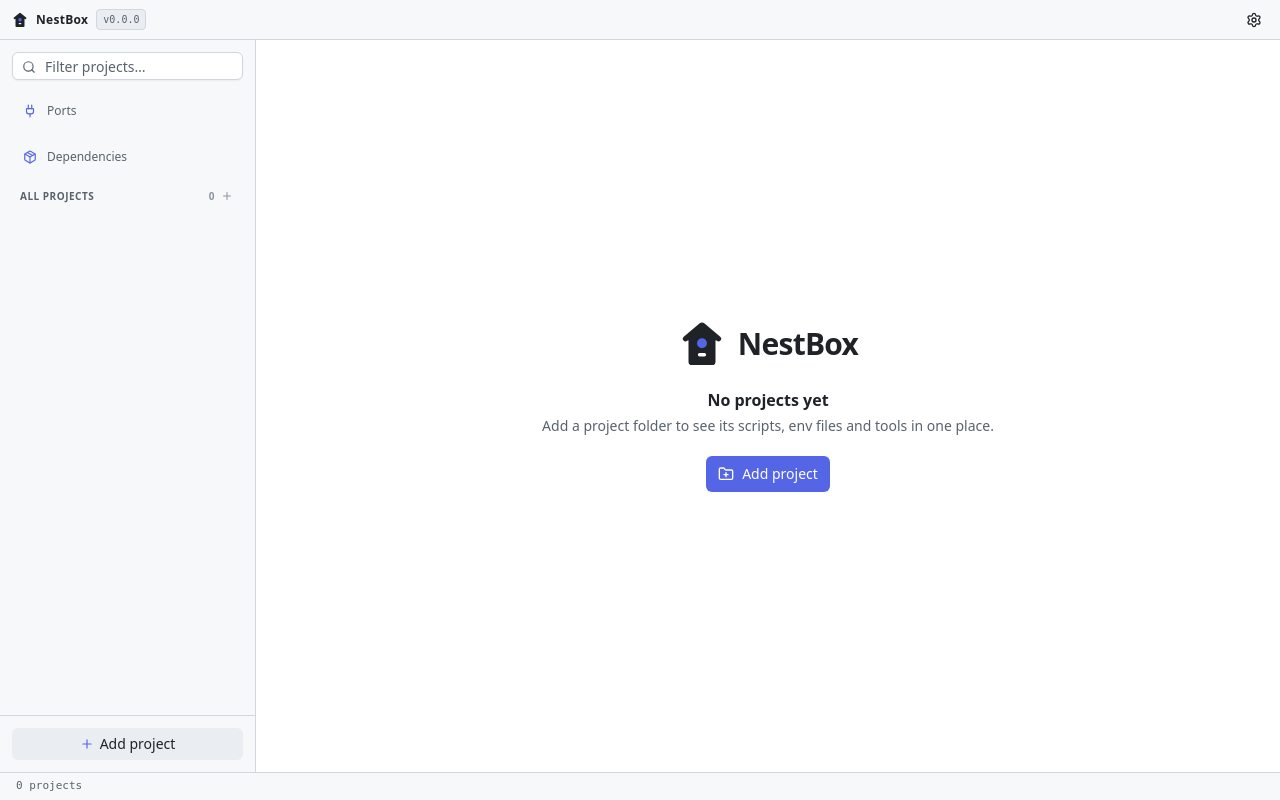
Test: App shell › shows a toast when the folder is already added
Check: the heading "No projects yet" is shown, box [707, 389, 829, 411]
Click the button "Add project" below "No projects yet" at (768,474), box [706, 456, 830, 492]
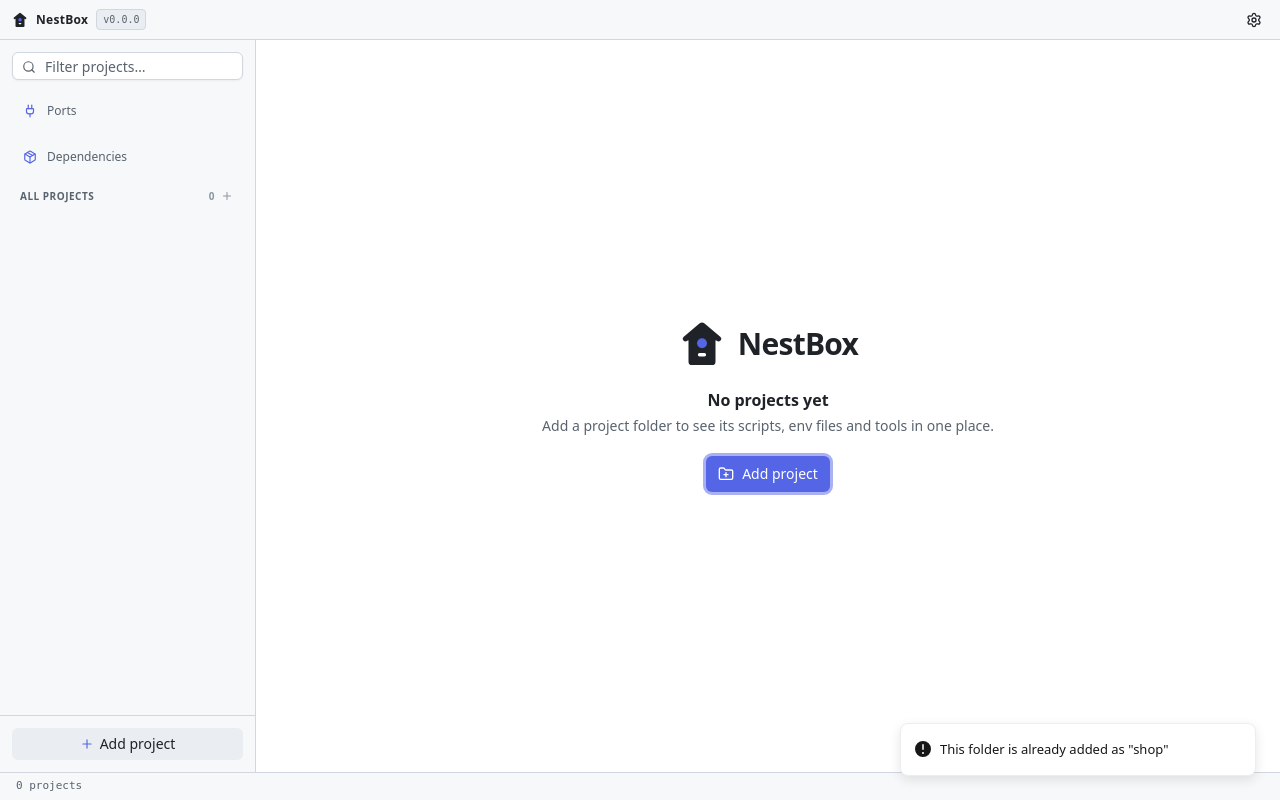
Check: the text "This folder is already added as \"shop\"" is shown, box [940, 740, 1168, 759]
